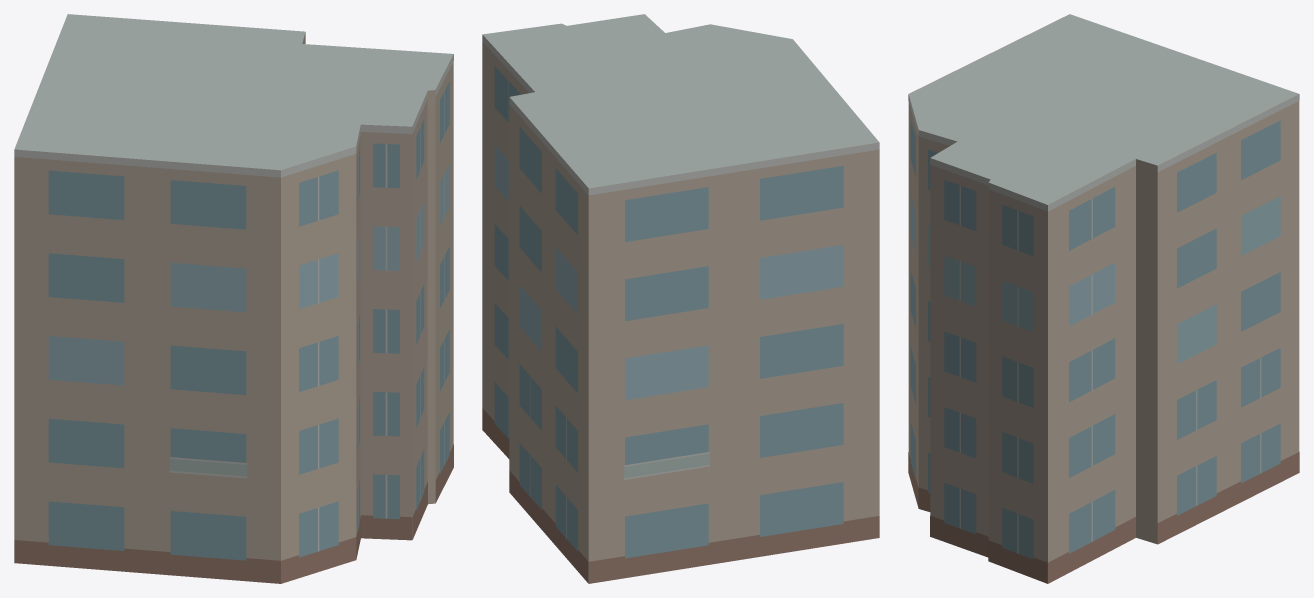
Rendered from survey-upis-32614309.glb.
3 renders of one model, left to right at view 1: azimuth 30°, elevation 25°; view 2: azimuth 150°, elevation 25°; view 3: azimuth 270°, elevation 25°, orthographic. The views are drawn at different scales.
Parts seen in each view (by area): view 1: survey-upis-32614309.tmp; view 2: survey-upis-32614309.tmp; view 3: survey-upis-32614309.tmp.
Boxes of the visible parts, x1,y1,x2,y2 form: survey-upis-32614309.tmp: (14, 14, 453, 583); survey-upis-32614309.tmp: (482, 14, 879, 583); survey-upis-32614309.tmp: (908, 14, 1299, 583).
Bounding box in the file's own units: 14.96 × 13.82 × 12.94.
